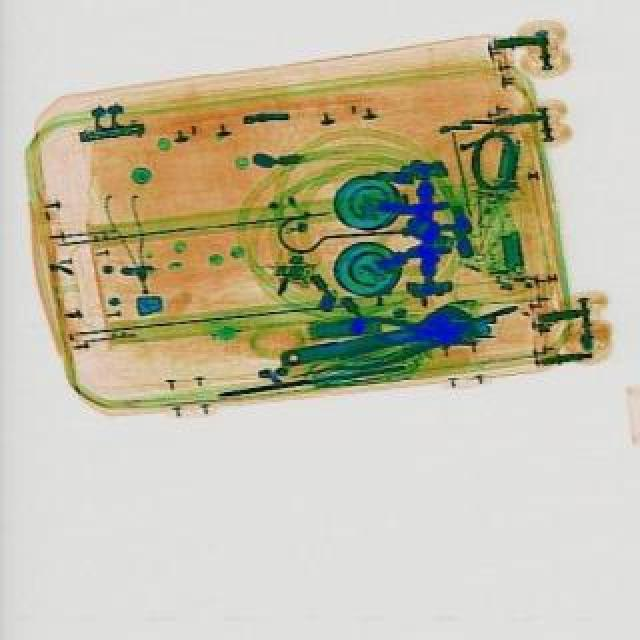scissors: (274, 298, 476, 378)
wrench: (324, 304, 470, 372)
